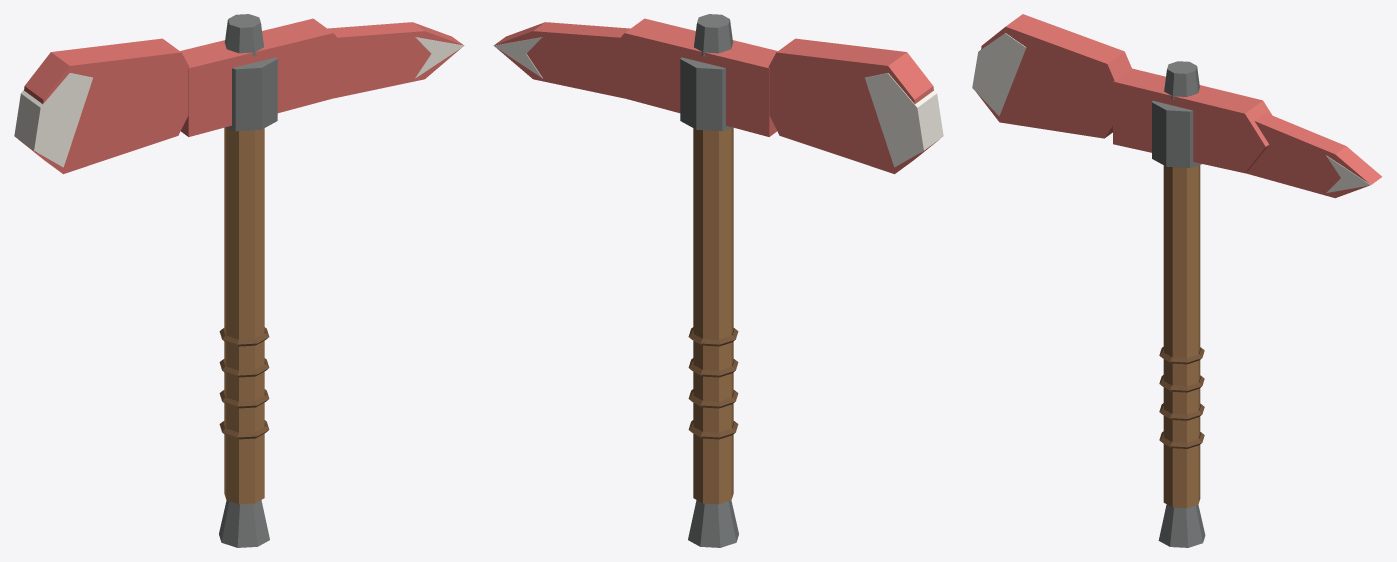
File: t5_hammer.glb
3 views of the same model, side by side, from view 1: azimuth 30°, elevation 25°; view 2: azimuth 150°, elevation 25°; view 3: azimuth 330°, elevation 25° (orthographic). The views are drawn at different scales.
Parts seen in each view (by area): view 1: WoodHandle, HammerHead, HeadCore, ChiselPoint, HammerFace, HeadSocket, BottomPommel, TopCap, ChiselTip; view 2: WoodHandle, HammerHead, HeadCore, ChiselPoint, HammerFace, HeadSocket, BottomPommel, TopCap, ChiselTip; view 3: WoodHandle, HammerHead, HeadCore, ChiselPoint, HammerFace, HeadSocket, BottomPommel, TopCap, ChiselTip.
Part boxes in pixels (x1,y1,x2,y2): WoodHandle: (224,127,264,504); HammerHead: (18,38,189,174); HeadCore: (180,18,356,136); ChiselPoint: (327,22,463,98); HammerFace: (14,73,92,167); HeadSocket: (225,57,277,131); BottomPommel: (219,500,269,547); TopCap: (224,14,263,56); ChiselTip: (415,37,464,78); WoodHandle: (693,127,733,504); HammerHead: (768,38,939,174); HeadCore: (601,18,777,136); ChiselPoint: (494,22,630,98); HammerFace: (865,73,943,167); HeadSocket: (680,57,732,131); BottomPommel: (688,500,738,547); TopCap: (694,14,733,56); ChiselTip: (493,37,542,78); WoodHandle: (1163,165,1200,508); HammerHead: (976,14,1131,138); HeadCore: (1113,68,1272,173); ChiselPoint: (1245,113,1381,198); HammerFace: (972,33,1026,116); HeadSocket: (1152,100,1201,167); BottomPommel: (1158,504,1205,547); TopCap: (1164,61,1199,99); ChiselTip: (1326,155,1382,192).
Size of the model in its own units: 1.32 by 1.52 by 0.18.
